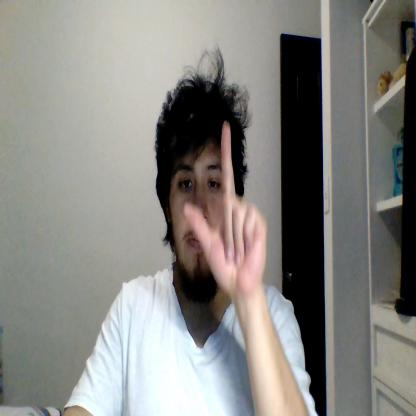L: (183, 121, 266, 290)
